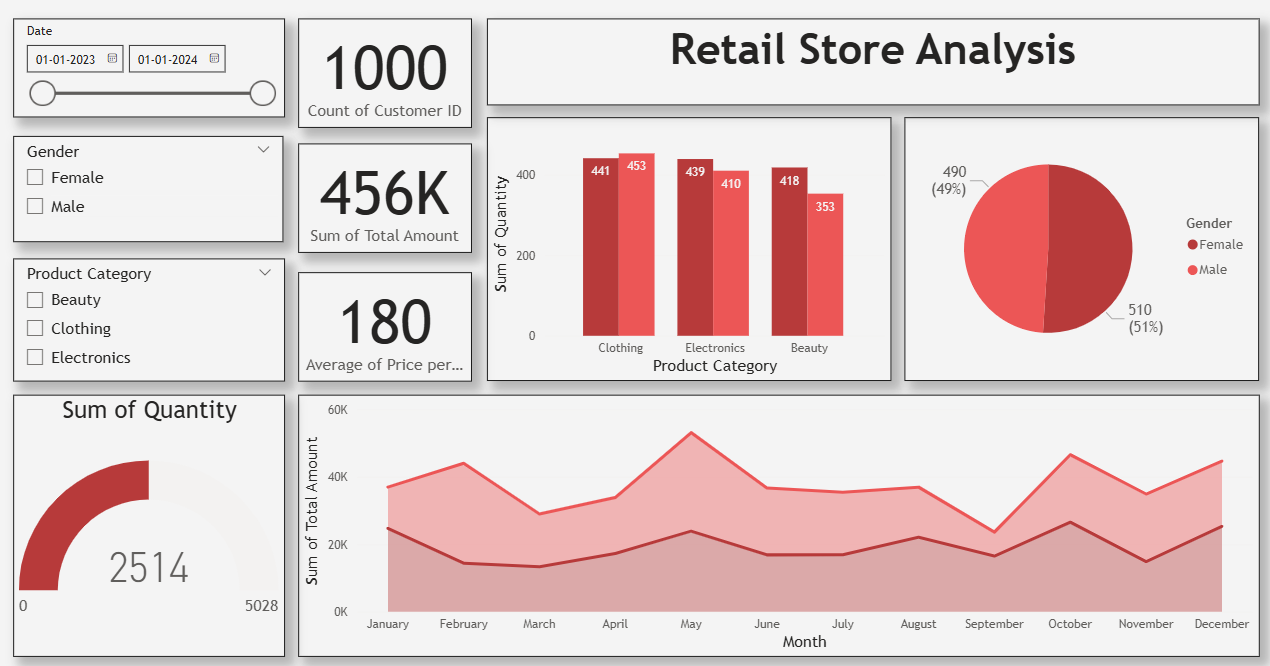

What the dashboard file says about the page in this screenshot:
{"tool":"powerbi","page":{"name":"Page 1","canvas":[1280,720],"ordinal":0},"visuals":[{"type":"slicer","fields":{"Values":["retail_sales_dataset.Date"]},"box":[20.6,67.2,270.3,98.8],"z":0},{"type":"slicer","fields":{"Values":["retail_sales_dataset.Gender"]},"box":[20.6,183.9,269,105.7],"z":1000},{"type":"slicer","fields":{"Values":["retail_sales_dataset.Product Category"]},"box":[21.1,306,269.9,121.9],"z":2000},{"type":"card","fields":{"Values":["Count(retail_sales_dataset.Customer ID)"]},"box":[304.6,67.2,172.9,108.4],"z":3000},{"type":"clusteredColumnChart","fields":{"Category":["retail_sales_dataset.Product Category"],"Series":["retail_sales_dataset.Gender"],"Y":["Sum(retail_sales_dataset.Price per Unit)"]},"box":[492.6,166,402.1,262.1],"z":4000},{"type":"card","fields":{"Values":["Sum(retail_sales_dataset.Total Amount)"]},"box":[304.8,191.6,172.9,109.5],"z":5000},{"type":"pieChart","fields":{"Category":["retail_sales_dataset.Gender"],"Y":["CountNonNull(retail_sales_dataset.Customer ID)"]},"box":[908.4,166,352.7,262.1],"z":6000},{"type":"card","fields":{"Values":["Avg(retail_sales_dataset.Price per Unit)"]},"box":[304.6,319.7,172.9,108.4],"z":7000},{"type":"stackedAreaChart","fields":{"Category":["retail_sales_dataset.Date.Variation.Date Hierarchy.Month"],"Y":["Sum(retail_sales_dataset.Total Amount)"],"Series":["retail_sales_dataset.Gender"]},"box":[304.6,441.9,956.4,260.7],"z":8000},{"type":"gauge","fields":{"Y":["Sum(retail_sales_dataset.Quantity)"]},"box":[21,442,270,261],"z":9000},{"type":"textbox","box":[492.6,67.2,768.4,86.4],"z":10000}]}

Visuals, with their boxes in screenshot pixels (x1, y1, x2, y2):
slicer - retail_sales_dataset.Date: bbox=(17, 19, 281, 116)
slicer - retail_sales_dataset.Gender: bbox=(17, 134, 280, 237)
slicer - retail_sales_dataset.Product Category: bbox=(17, 253, 281, 372)
card - Count(retail_sales_dataset.Customer ID): bbox=(295, 19, 464, 126)
clusteredColumnChart - retail_sales_dataset.Product Category x retail_sales_dataset.Gender: bbox=(479, 116, 872, 373)
card - Sum(retail_sales_dataset.Total Amount): bbox=(295, 141, 464, 248)
pieChart - retail_sales_dataset.Gender x CountNonNull(retail_sales_dataset.Customer ID): bbox=(886, 116, 1231, 373)
card - Avg(retail_sales_dataset.Price per Unit): bbox=(295, 267, 464, 373)
stackedAreaChart - retail_sales_dataset.Date.Variation.Date Hierarchy.Month x Sum(retail_sales_dataset.Total Amount): bbox=(295, 386, 1231, 641)
gauge - Sum(retail_sales_dataset.Quantity): bbox=(17, 386, 281, 642)
textbox: bbox=(479, 19, 1231, 104)
